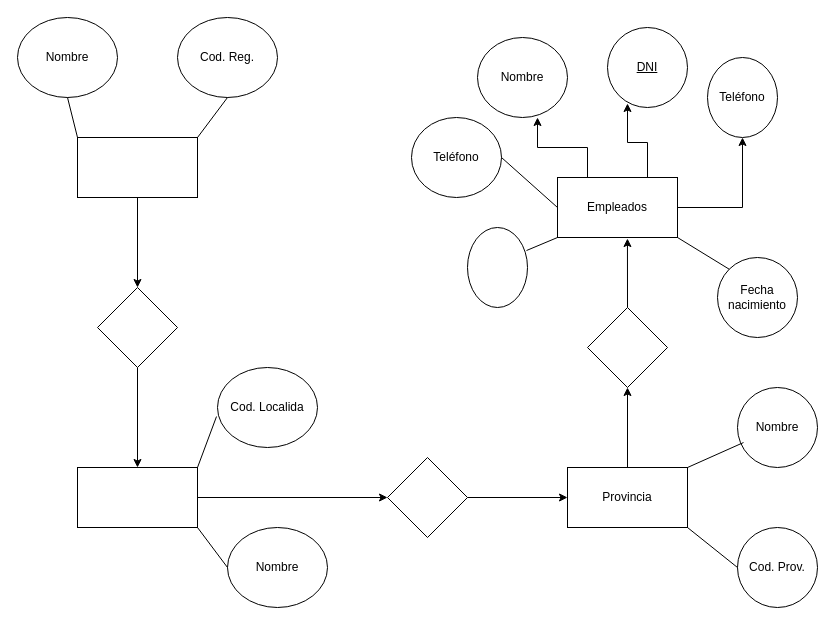
This 835x625 diagram has some shape labels left out. Here are the shapes that lost their labels. From the top down, the centre of each, then its label:
(x=137, y=167): Region
(x=497, y=267): Sueldo
(x=137, y=497): Localidad
(x=427, y=497): pertenece
